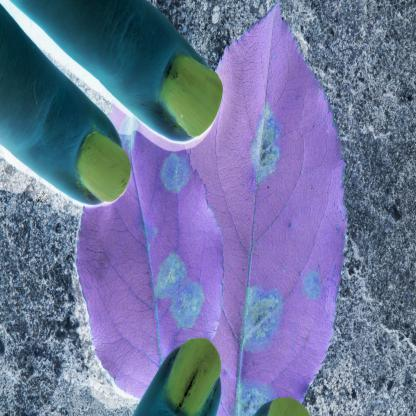Apple Scab Leaf: (77, 119, 220, 397), (230, 71, 351, 398)
